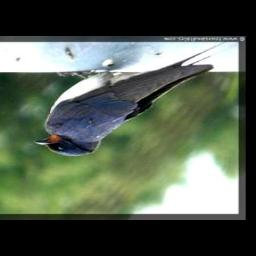Swallow: (34, 37, 237, 157)
